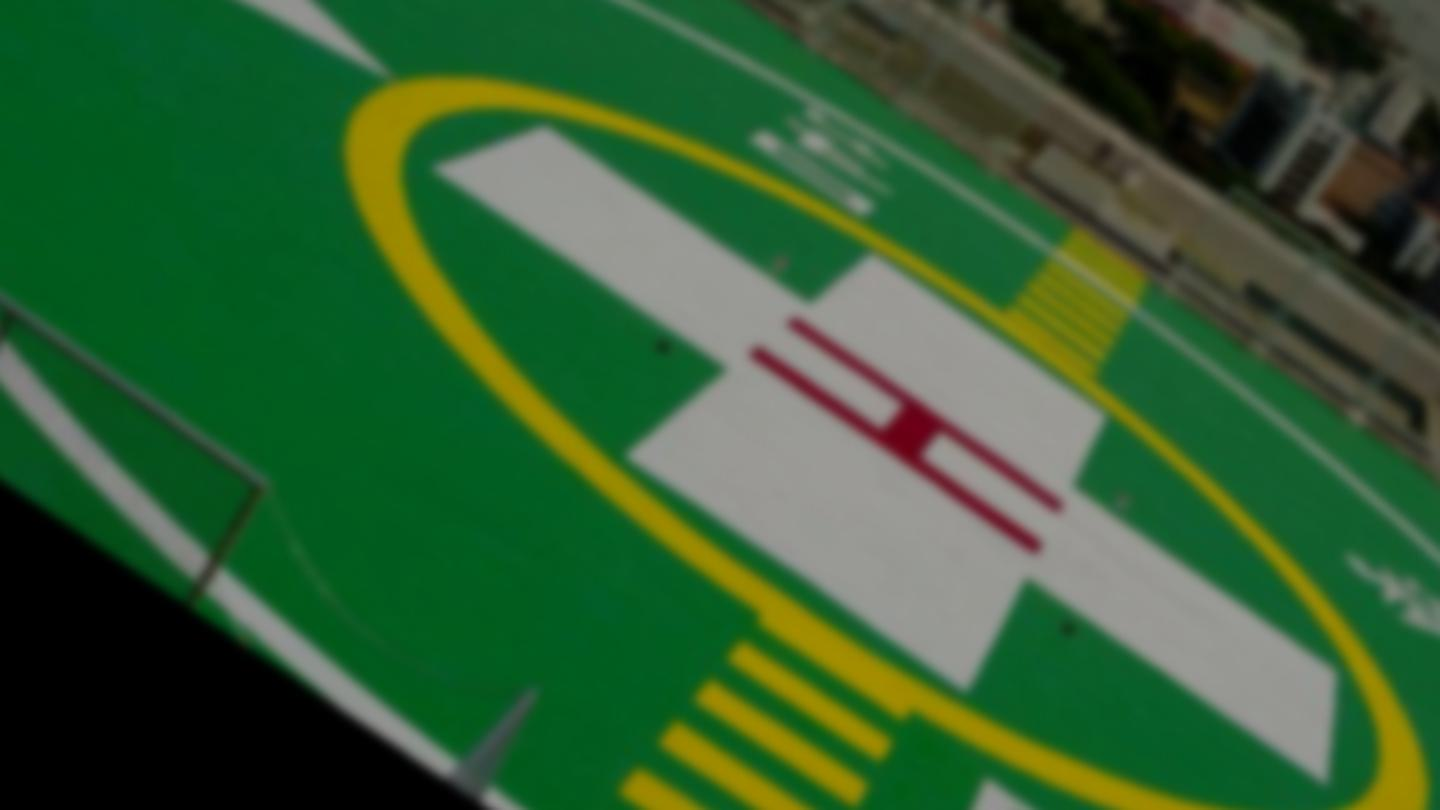Apron: (335, 56, 1423, 810)
